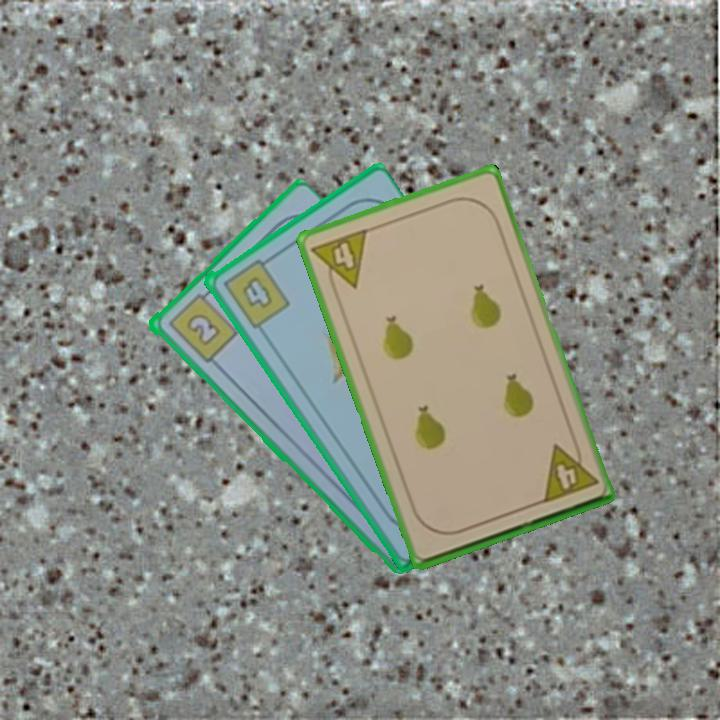2b: (163, 285, 240, 366)
4b: (218, 252, 292, 331)
4p: (308, 225, 371, 298), (538, 435, 601, 506)
